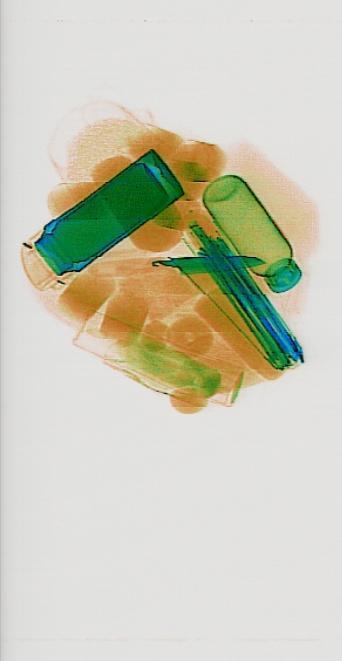Knife: (151, 249, 266, 276)
